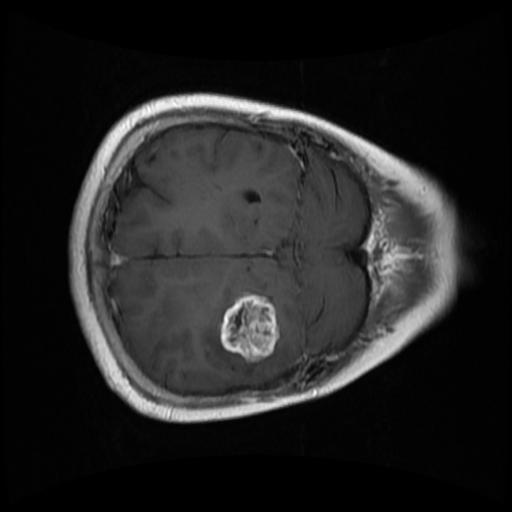glioma: (218, 293, 280, 365)
